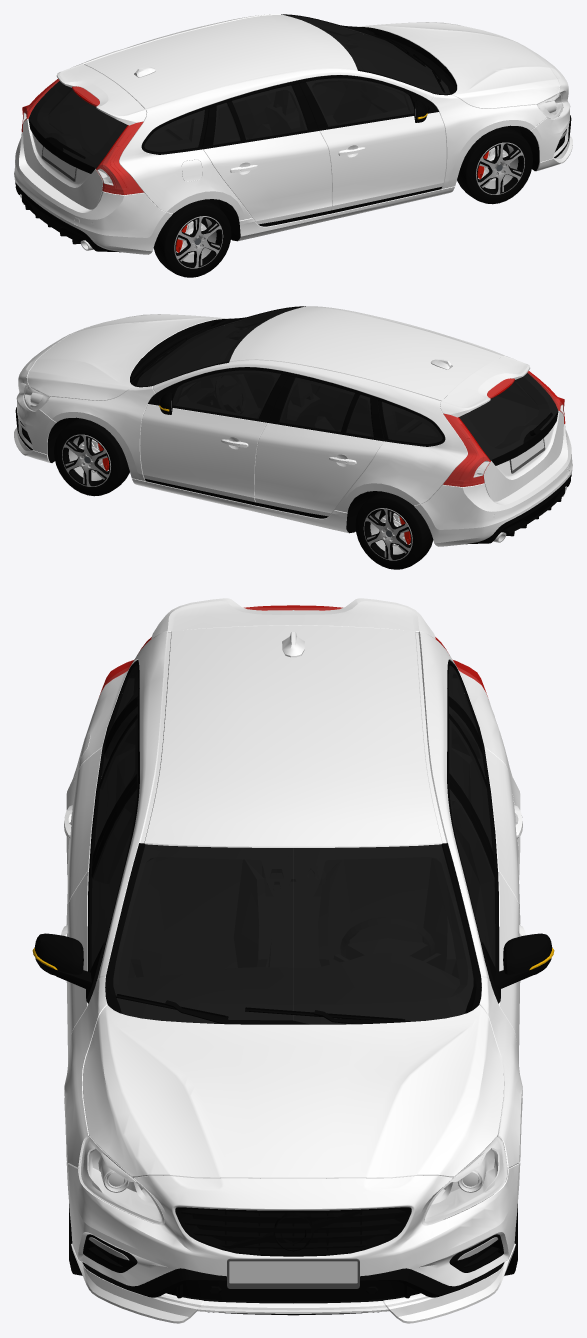
The model's file is estate-lod0.glb.
3 renders of one model, top to bottom at view 1: azimuth 30°, elevation 25°; view 2: azimuth 150°, elevation 25°; view 3: azimuth 270°, elevation 25°, orthographic. The views are drawn at different scales.
Parts seen in each view (by area): view 1: Body, Interior_Static, Wheel_1_0, Wheel_0_0, Brakelight_Chrome, Light_Brake_Right_0, Headlight_Chrome, License_Plate_1; view 2: Body, Interior_Static, Wheel_1_1, Wheel_0_1, Brakelight_Chrome, Light_Brake_Left_0, Headlight_Chrome, License_Plate_1; view 3: Body, Interior_Static, Headlight_Chrome, License_Plate_0, License_Plate_Static.
Part boxes in pixels (x1,y1,x2,y2): Body: (14,14,572,254); Interior_Static: (48,17,539,241); Wheel_1_0: (153,199,231,277); Wheel_0_0: (457,126,532,204); Brakelight_Chrome: (22,80,143,194); Light_Brake_Right_0: (96,121,143,194); Headlight_Chrome: (537,93,563,119); License_Plate_1: (42,147,75,178); Body: (14,306,572,546); Interior_Static: (47,309,538,533); Wheel_1_1: (355,491,433,569); Wheel_0_1: (54,418,129,496); Brakelight_Chrome: (443,372,564,486); Light_Brake_Left_0: (443,413,490,486); Headlight_Chrome: (23,385,49,411); License_Plate_1: (511,438,544,470); Body: (34,598,552,1323); Interior_Static: (91,673,495,1301); Headlight_Chrome: (79,1136,507,1225); License_Plate_0: (229,1261,357,1283); License_Plate_Static: (227,1258,359,1288).
Size of the model in its own units: 4.67 by 1.49 by 2.08.
